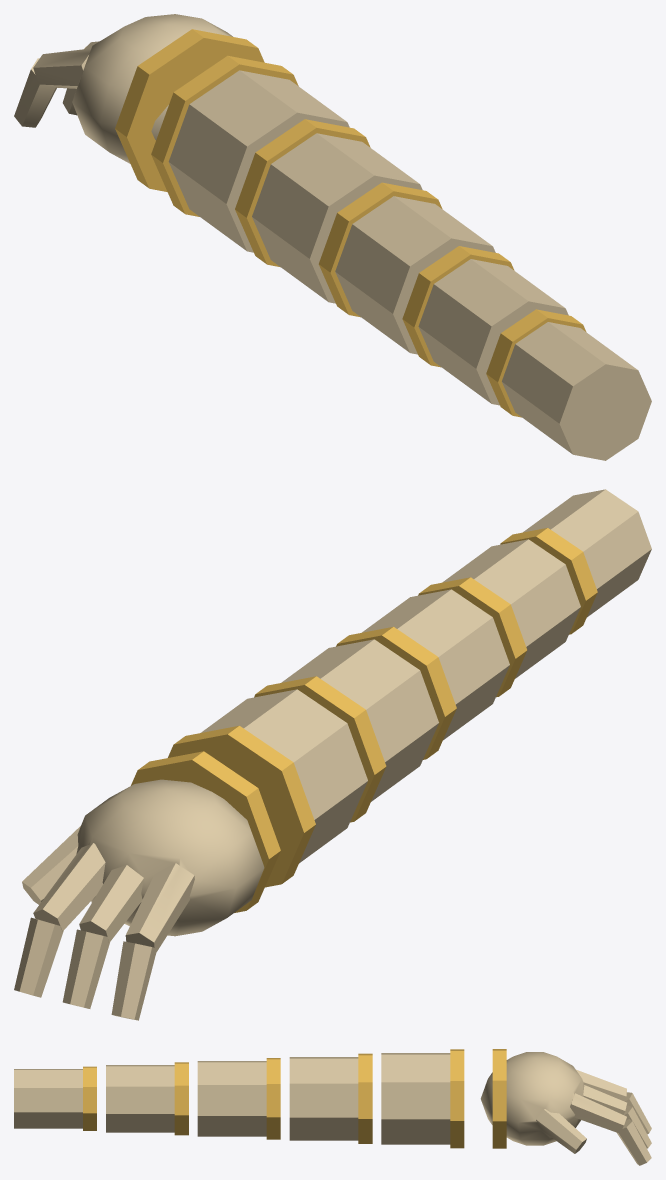
Rendered from TempleGuardian.fbx.
3 renders of one model, top to bottom at view 1: azimuth 30°, elevation 25°; view 2: azimuth 150°, elevation 25°; view 3: azimuth 270°, elevation 25°, orthographic. The views are drawn at different scales.
Parts seen in each view (by area): view 1: Seg5_Statue, Seg1_Statue, Seg2_Statue, Seg3_Statue, Head_Statue, Seg4_Statue, Head_Gold, Seg1_Gold, Seg2_Gold, Seg3_Gold, Seg4_Gold, Seg5_Gold; view 2: Head_Statue, Seg1_Statue, Seg2_Statue, Seg3_Statue, Seg4_Statue, Seg1_Gold, Seg5_Statue, Head_Gold, Seg2_Gold, Seg3_Gold, Seg4_Gold, Seg5_Gold; view 3: Head_Statue, Seg1_Statue, Seg2_Statue, Seg3_Statue, Seg4_Statue, Seg5_Statue, Head_Gold, Seg1_Gold, Seg2_Gold, Seg3_Gold, Seg4_Gold, Seg5_Gold.
Part boxes in pixels (x1,y1,x2,y2): Seg5_Statue: [502, 322, 651, 460]; Seg1_Statue: [168, 70, 349, 252]; Seg2_Statue: [252, 133, 422, 303]; Seg3_Statue: [335, 196, 495, 354]; Head_Statue: [14, 14, 232, 163]; Seg4_Statue: [418, 259, 568, 405]; Head_Gold: [115, 29, 264, 191]; Seg1_Gold: [151, 55, 298, 216]; Seg2_Gold: [235, 119, 370, 267]; Seg3_Gold: [318, 182, 442, 317]; Seg4_Gold: [402, 246, 514, 367]; Seg5_Gold: [486, 309, 586, 417]; Head_Statue: [14, 779, 264, 1020]; Seg1_Statue: [201, 689, 367, 863]; Seg2_Statue: [281, 639, 438, 801]; Seg3_Statue: [362, 589, 509, 740]; Seg4_Statue: [442, 539, 580, 678]; Seg1_Gold: [168, 725, 315, 887]; Seg5_Statue: [523, 489, 651, 617]; Head_Gold: [131, 751, 280, 912]; Seg2_Gold: [254, 676, 386, 822]; Seg3_Gold: [336, 626, 456, 759]; Seg4_Gold: [418, 577, 527, 697]; Seg5_Gold: [500, 528, 597, 634]; Head_Statue: [480, 1052, 651, 1165]; Seg1_Statue: [381, 1053, 450, 1144]; Seg2_Statue: [289, 1057, 358, 1140]; Seg3_Statue: [197, 1061, 266, 1136]; Seg4_Statue: [106, 1065, 174, 1132]; Seg5_Statue: [14, 1069, 82, 1128]; Head_Gold: [492, 1049, 506, 1148]; Seg1_Gold: [450, 1049, 464, 1148]; Seg2_Gold: [358, 1053, 372, 1143]; Seg3_Gold: [266, 1058, 280, 1139]; Seg4_Gold: [174, 1062, 188, 1135]; Seg5_Gold: [83, 1066, 96, 1130].
Bounding box in the file's own units: 3.75 × 3.11 × 18.06.
